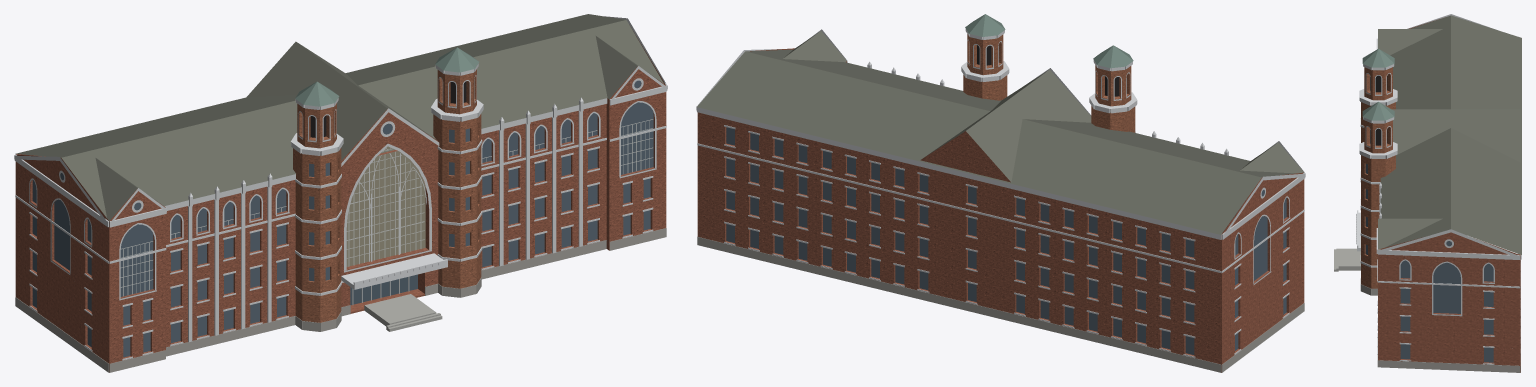
3 views of the same model, side by side, from view 1: azimuth 30°, elevation 25°; view 2: azimuth 150°, elevation 25°; view 3: azimuth 270°, elevation 25° (orthographic). The views are drawn at different scales.
Visible parts, largest first — view 1: student__wall, student__roof, student__trim, student__glass, student__tower-wall, student__hall-glass, student__base, student__frame, student__canopy, student__spire, student__threshold, student__door-glass; view 2: student__wall, student__roof, student__glass, student__trim, student__base, student__tower-wall, student__spire; view 3: student__roof, student__wall, student__trim, student__tower-wall, student__glass, student__base, student__spire, student__threshold, student__lantern-void.
Boxes of the visible parts, x1,y1,x2,y2 form: student__wall: [15, 31, 666, 372]; student__roof: [15, 14, 663, 220]; student__trim: [14, 16, 667, 360]; student__glass: [32, 80, 653, 357]; student__tower-wall: [293, 69, 481, 322]; student__hall-glass: [346, 146, 425, 266]; student__base: [15, 228, 666, 372]; student__frame: [120, 119, 653, 305]; student__canopy: [341, 253, 447, 289]; student__spire: [295, 47, 478, 106]; student__threshold: [364, 294, 436, 326]; student__door-glass: [350, 274, 417, 305]; student__wall: [697, 48, 1304, 372]; student__roof: [697, 31, 1303, 234]; student__glass: [726, 127, 1286, 354]; student__trim: [696, 29, 1305, 357]; student__base: [697, 237, 1304, 372]; student__tower-wall: [963, 34, 1135, 132]; student__spire: [965, 14, 1133, 68]; student__roof: [1378, 15, 1521, 254]; student__wall: [1378, 19, 1520, 372]; student__trim: [1356, 14, 1521, 364]; student__tower-wall: [1361, 67, 1395, 288]; student__glass: [1365, 164, 1493, 362]; student__base: [1360, 278, 1520, 372]; student__spire: [1362, 48, 1394, 120]; student__threshold: [1338, 248, 1360, 270]; student__lantern-void: [1370, 75, 1387, 145].
Bounding box in the file's own units: 74.06 × 29.5 × 26.94.
14 materials, 2 textured.
